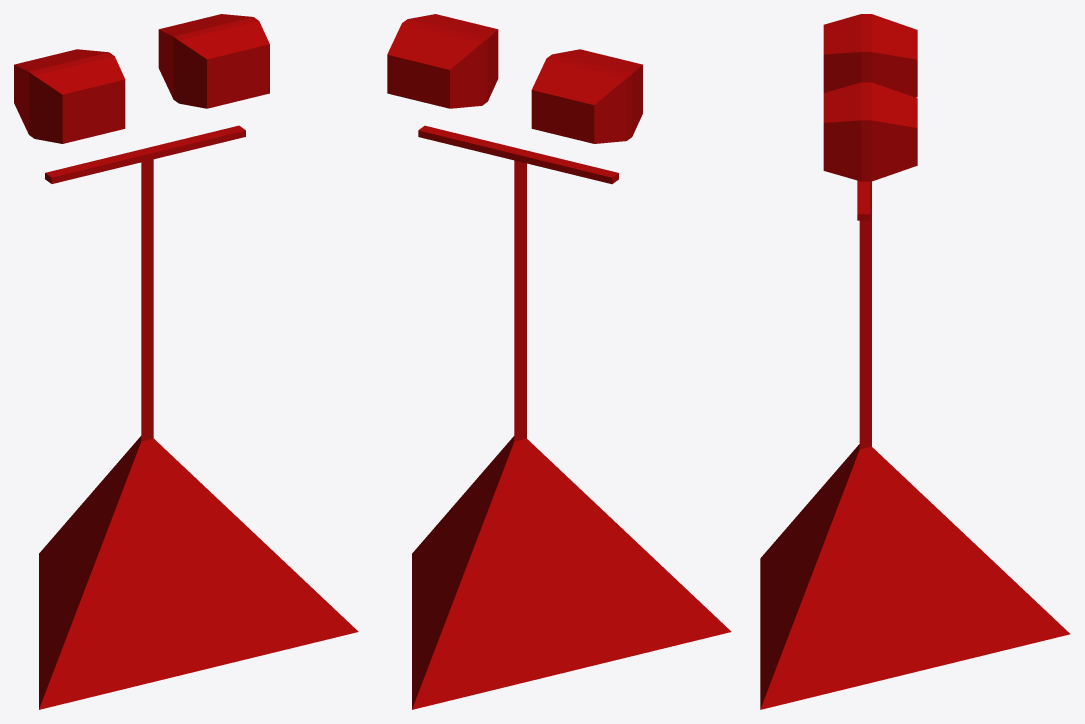
The picture shows the model from 3 angles, left to right: view 1: azimuth 30°, elevation 25°; view 2: azimuth 150°, elevation 25°; view 3: azimuth 270°, elevation 25°; orthographic projection. The views are drawn at different scales.
Visible parts, largest first — view 1: coll_worklight; view 2: coll_worklight; view 3: coll_worklight.
Boxes of the visible parts, x1,y1,x2,y2 form: coll_worklight: (14, 14, 358, 709); coll_worklight: (387, 14, 731, 709); coll_worklight: (760, 14, 1070, 709).
Bounding box in the file's own units: 105 × 183 × 90.94.
